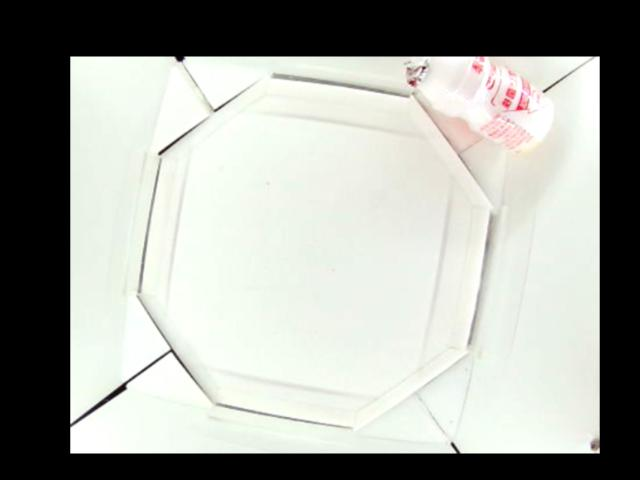Bottle: (404, 57, 555, 154)
